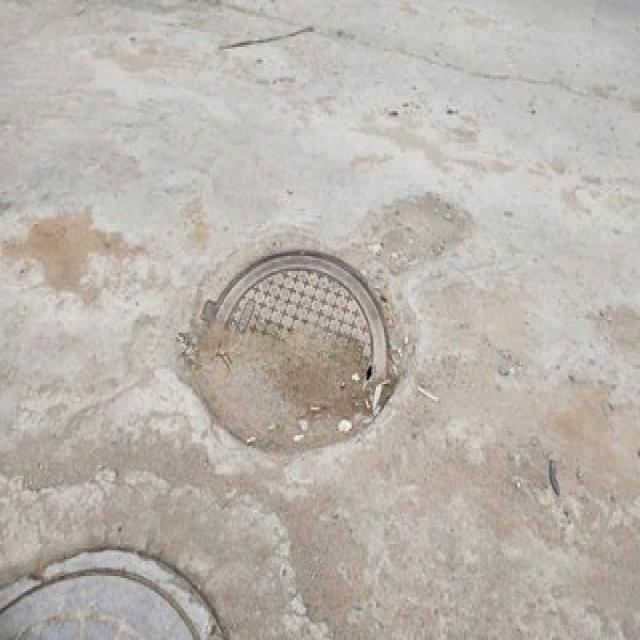manhole: (182, 241, 397, 452)
